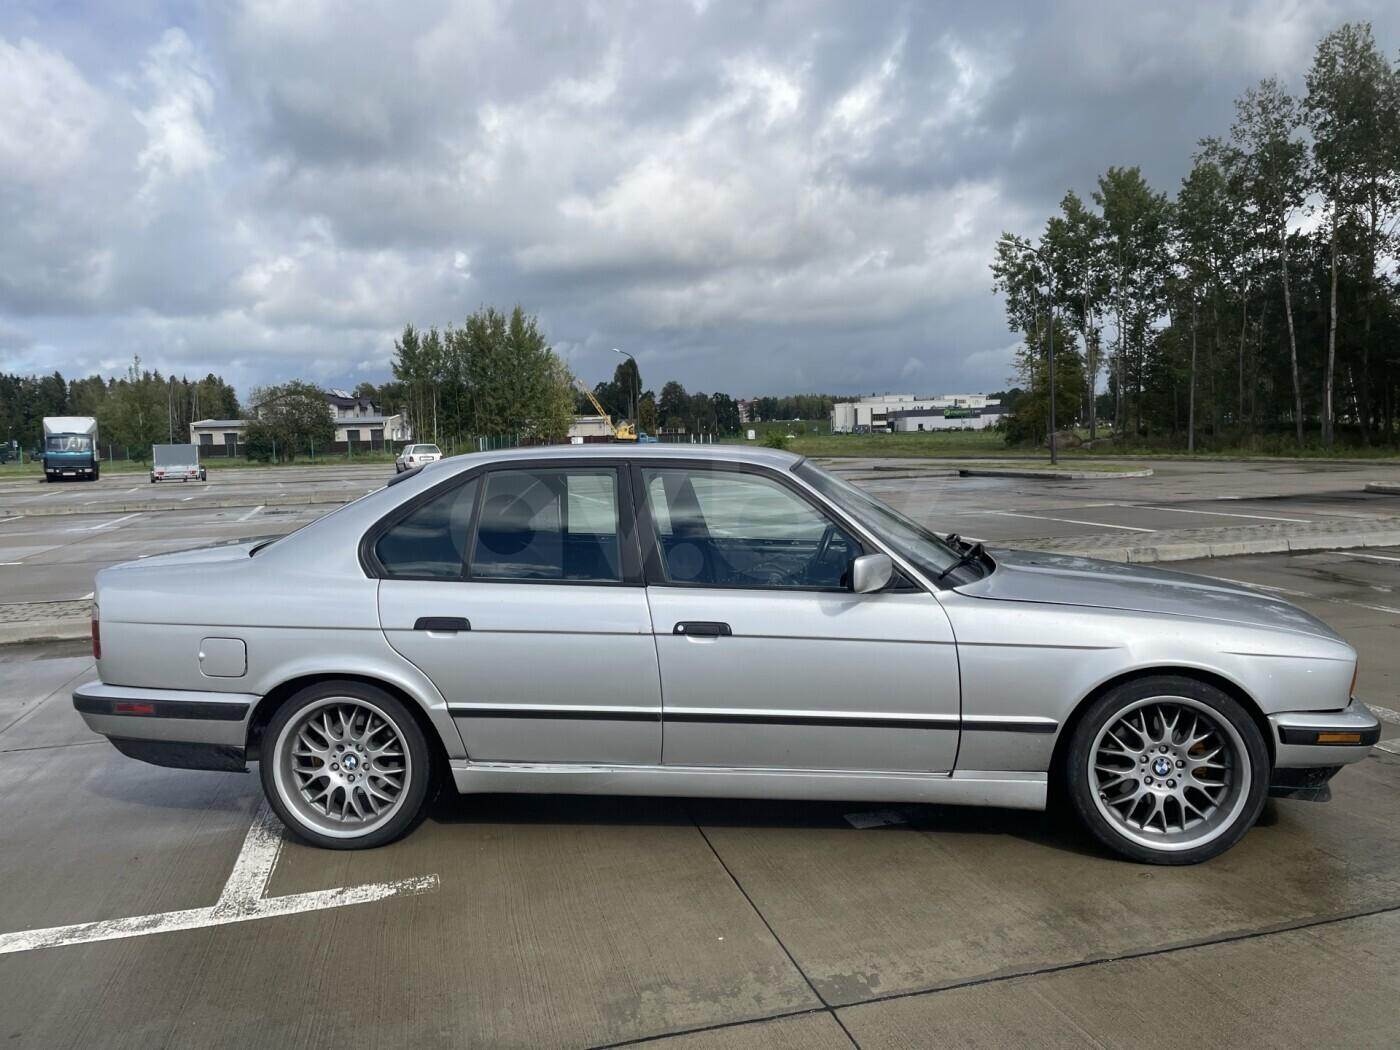BMW_E34_1992_3600: (60, 440, 1389, 870)
